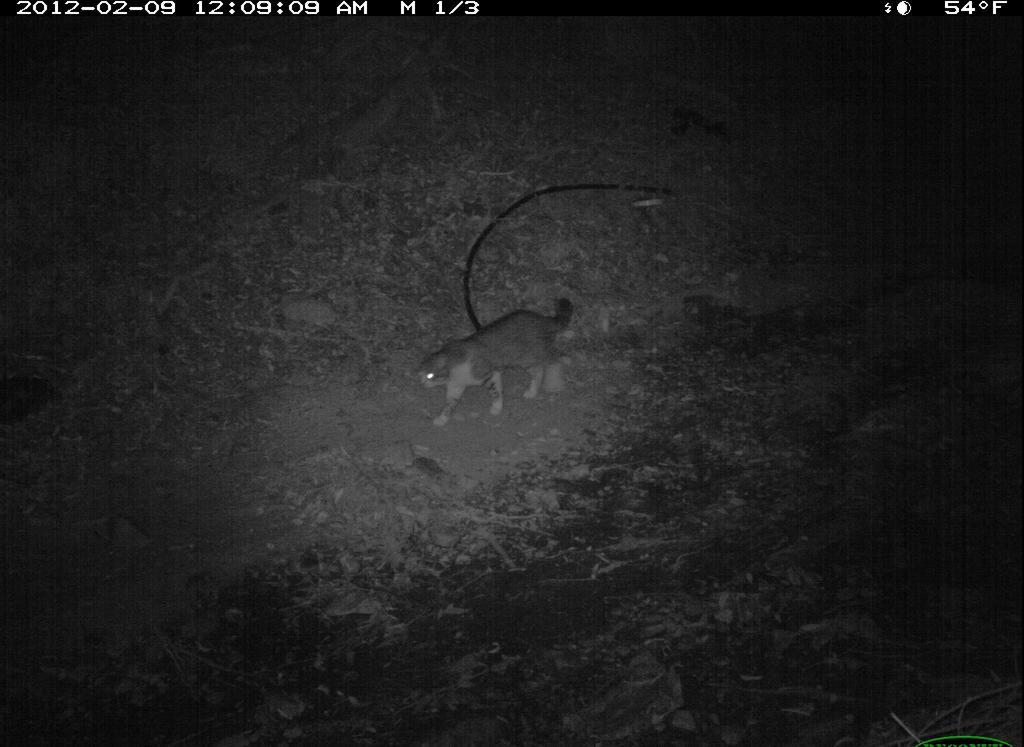cat: (414, 292, 587, 433)
